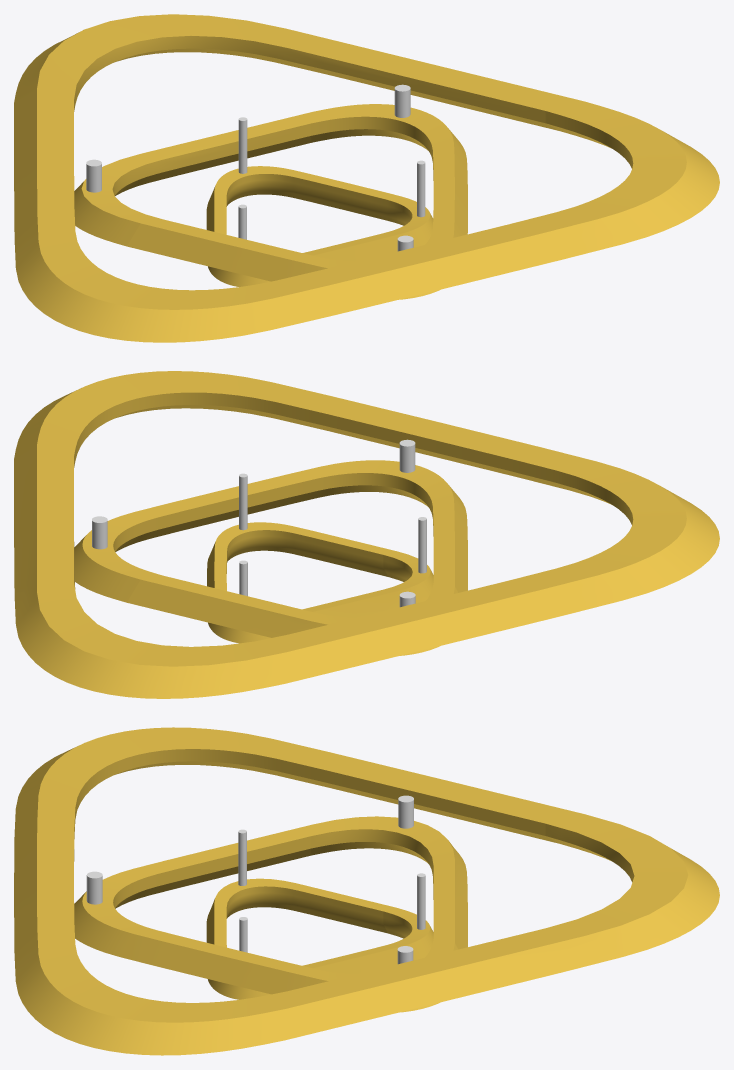
File: modern_interior_ceiling_light.glb
3 views of the same model, one above another, from view 1: azimuth 30°, elevation 25°; view 2: azimuth 150°, elevation 25°; view 3: azimuth 270°, elevation 25° (orthographic).
Parts seen in each view (by area): view 1: Ceiling light_0; view 2: Ceiling light_0; view 3: Ceiling light_0.
Part boxes in pixels (<box>): Ceiling light_0: <box>14,14,719,342</box>; Ceiling light_0: <box>14,371,719,698</box>; Ceiling light_0: <box>14,727,719,1055</box>.
Size of the model in its own units: 1.48 by 0.1651 by 1.38.
